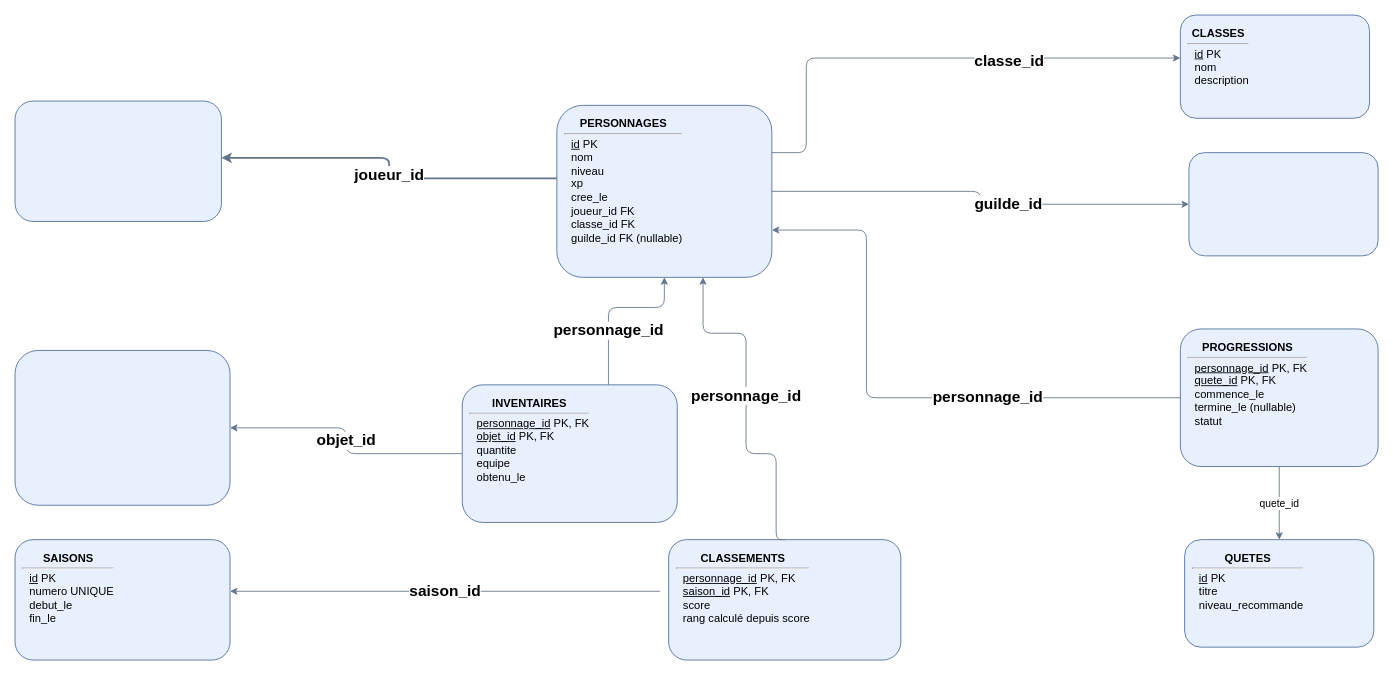
Some shapes in this 1393 by 675 pixel diagram are drawn without their labels. Each missing label, with the box of its shape:
GUILDES id PK nom date_creation: (1188, 152, 1378, 256)
JOUEURS id PK pseudo UNIQUE email UNIQUE inscrit_le: (14, 100, 221, 221)
OBJETS id PK nom type rarete niveau_requis caracteristiques: (14, 350, 230, 505)
